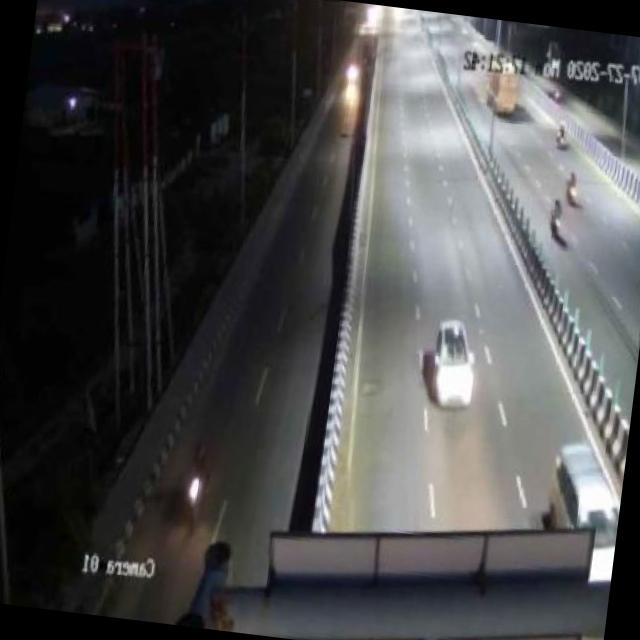car: (527, 430, 626, 588), (422, 314, 481, 418)
